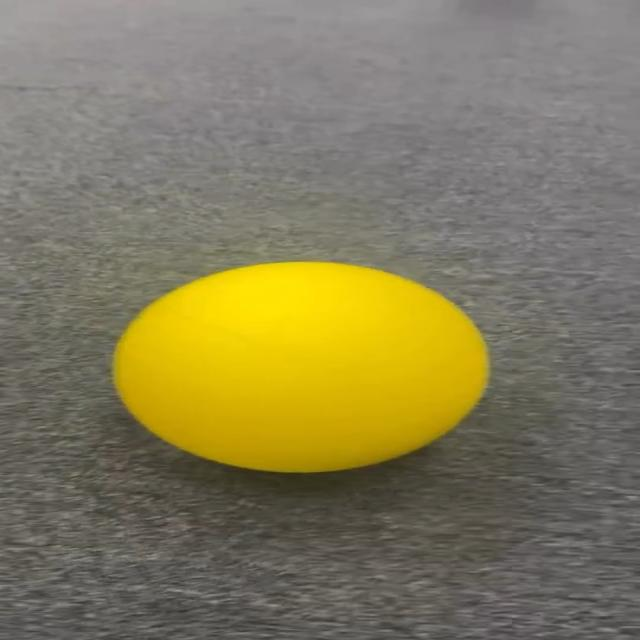Fuels: (112, 258, 484, 468)
